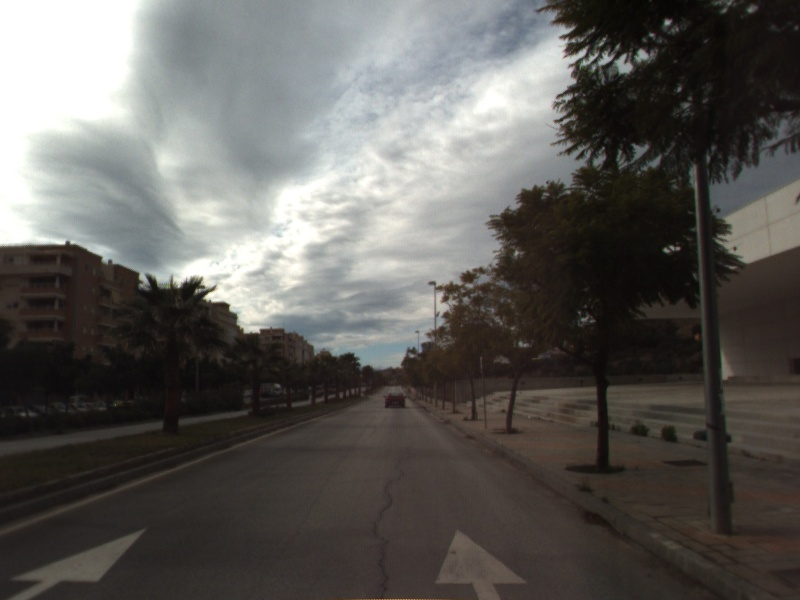STRAIGHT: (1, 524, 151, 600), (431, 526, 532, 600)
